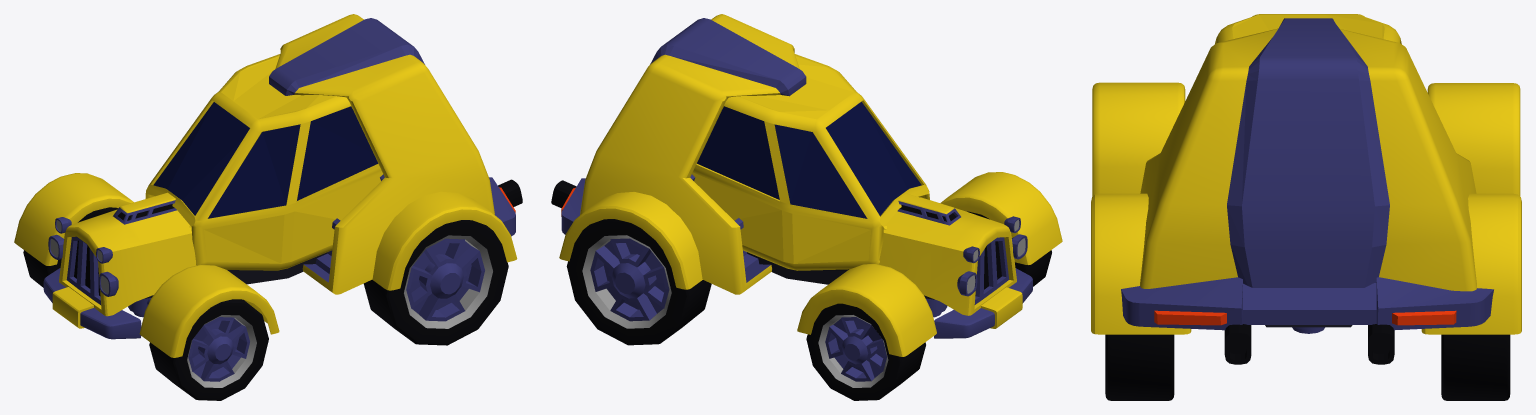
The model's file is Car_1.FBX.
3 renders of one model, left to right at view 1: azimuth 30°, elevation 25°; view 2: azimuth 150°, elevation 25°; view 3: azimuth 270°, elevation 25°, orthographic. The views are drawn at different scales.
Parts seen in each view (by area): view 1: Box117, Box118, Box116, Weel 3, Weel 1, Cylinder093, Cylinder095, Cylinder094, Base, weel 2, Box119; view 2: Box117, Box118, Box116, Weel 4, weel 2, Cylinder094, Cylinder093, Cylinder096, Base, Box119, Weel 1; view 3: Box118, Box119, Cylinder093, Cylinder094, Cylinder095, Cylinder096, Weel 3, Weel 4, Box117, Tube_ncl1_1, Tube.
Boxes of the visible parts, x1,y1,x2,y2 form: Box117: (145, 54, 382, 270); Box118: (269, 14, 494, 294); Box116: (43, 192, 196, 339); Weel 3: (363, 220, 508, 345); Weel 1: (149, 299, 268, 400); Cylinder093: (139, 264, 279, 357); Cylinder095: (372, 191, 517, 290); Cylinder094: (14, 173, 133, 265); Base: (144, 252, 327, 298); weel 2: (23, 207, 118, 287); Box119: (489, 177, 515, 236); Box117: (692, 54, 929, 270); Box118: (580, 14, 806, 294); Box116: (879, 193, 1032, 338); Weel 4: (566, 219, 711, 345); weel 2: (806, 303, 925, 400); Cylinder094: (797, 264, 936, 356); Cylinder093: (940, 172, 1062, 264); Cylinder096: (559, 192, 702, 289); Base: (747, 252, 934, 299); Box119: (561, 178, 585, 234); Weel 1: (967, 211, 1051, 286); Box118: (1140, 18, 1476, 291); Box119: (1121, 277, 1493, 330); Cylinder093: (1092, 82, 1185, 196); Cylinder094: (1427, 83, 1520, 196); Cylinder095: (1091, 193, 1191, 334); Cylinder096: (1421, 193, 1521, 334); Weel 3: (1105, 334, 1174, 400); Weel 4: (1441, 334, 1510, 400); Box117: (1214, 14, 1401, 44); Tube_ncl1_1: (1224, 324, 1251, 364); Tube: (1368, 324, 1394, 364).
Size of the model in its own units: 11.98 by 6.86 by 7.83.
